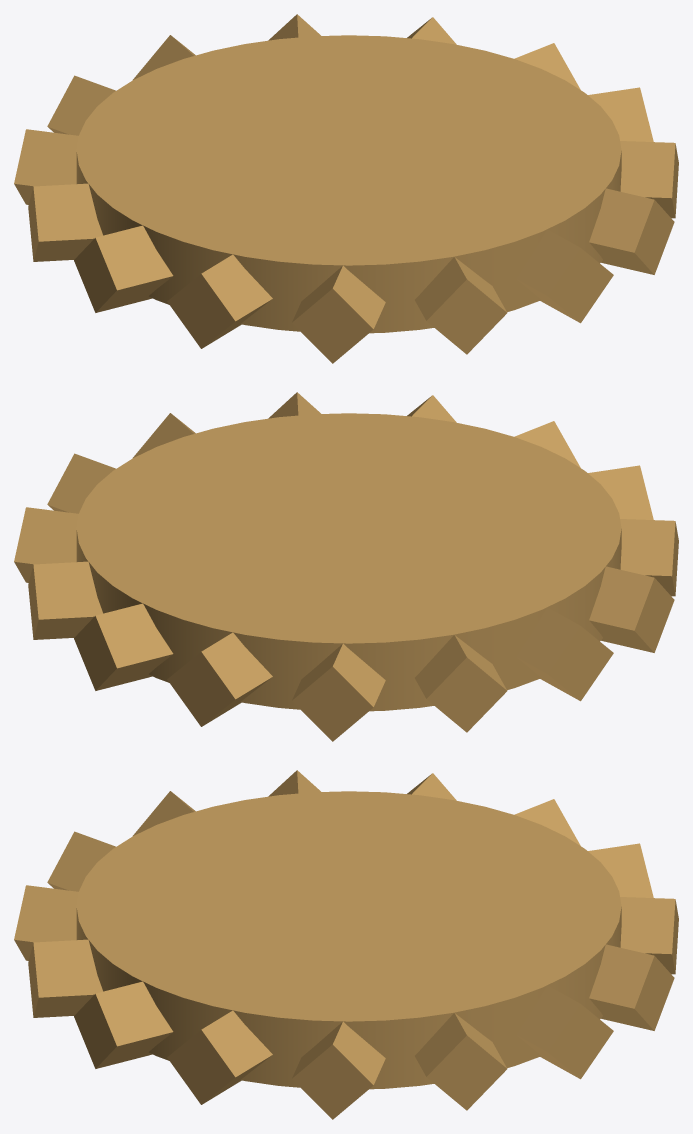
File: Metropolitan.glb
The picture shows the model from 3 angles, top to bottom: view 1: azimuth 30°, elevation 25°; view 2: azimuth 150°, elevation 25°; view 3: azimuth 270°, elevation 25°; orthographic projection.
Parts seen in each view (by area): view 1: Ratchet hub, Ratchet tooth (×15); view 2: Ratchet hub, Ratchet tooth (×15); view 3: Ratchet hub, Ratchet tooth (×15).
Boxes of the visible parts, left/top/right/bottom form: Ratchet hub: left=76, top=35, right=621, bottom=333; Ratchet tooth (×15): left=14, top=14, right=678, bottom=363; Ratchet hub: left=76, top=413, right=621, bottom=711; Ratchet tooth (×15): left=14, top=392, right=678, bottom=741; Ratchet hub: left=76, top=791, right=621, bottom=1089; Ratchet tooth (×15): left=14, top=770, right=678, bottom=1119.
Bounding box in the file's own units: 0.4158 × 0.052 × 0.4149.
